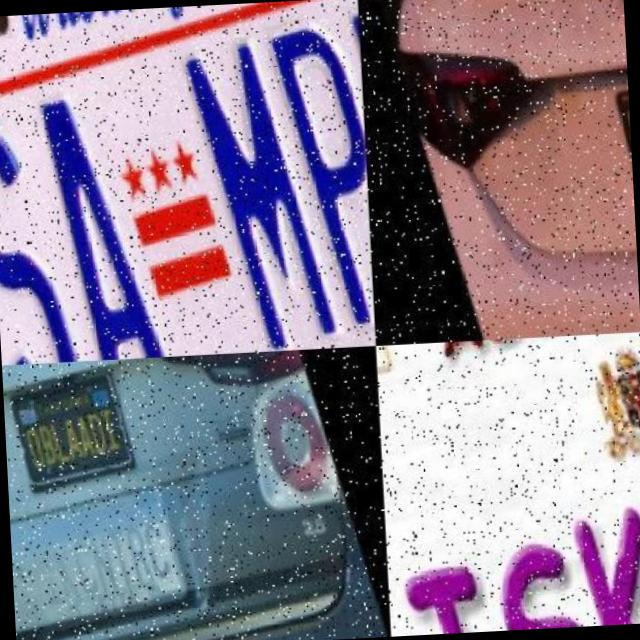LicensePlate: (0, 0, 376, 365), (379, 414, 640, 636), (2, 372, 134, 494), (606, 67, 636, 230)
